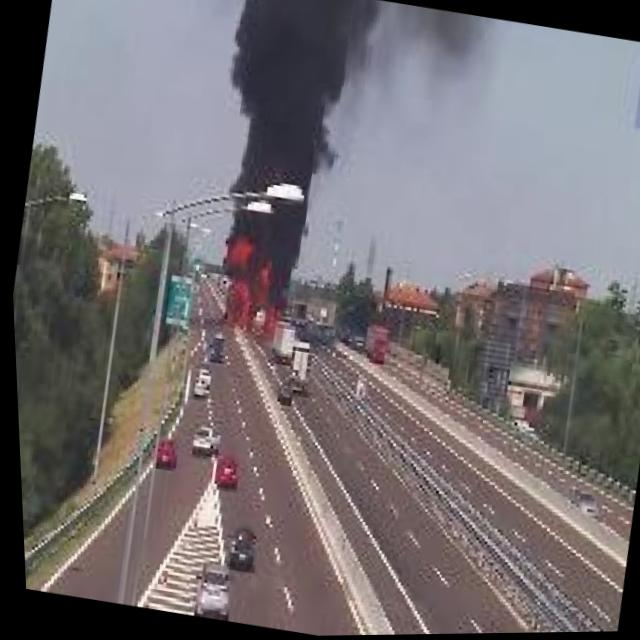fire: (206, 229, 299, 346)
